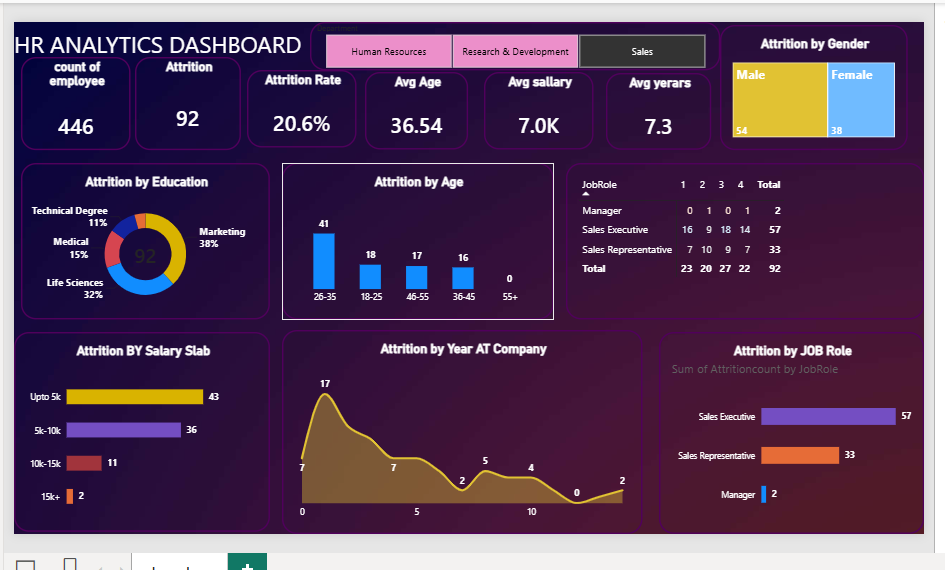

This screenshot's page, from the dashboard's own definition file:
{"tool":"powerbi","page":{"name":"hr analyas ","canvas":[1280,720],"ordinal":0},"visuals":[{"type":"cardVisual","title":"count of employee","fields":{"Data":["CountNonNull(HR_Analytics.EmpID)"]},"box":[10,48.6,154.3,131.4],"z":0},{"type":"cardVisual","title":"Attrition","fields":{"Data":["Sum(HR_Analytics.Attritioncount)"]},"box":[170,48.6,148.6,131.4],"z":1000},{"type":"cardVisual","title":"Avg Age","fields":{"Data":["Avg(HR_Analytics.Age)"]},"box":[493.9,70.6,145.4,109.4],"z":2000},{"type":"cardVisual","title":"Attrition Rate","fields":{"Data":["HR_Analytics.AttritionRATE"]},"box":[328.3,67.7,154.1,109.4],"z":3000},{"type":"cardVisual","title":"Avg yerars","fields":{"Data":["Avg(HR_Analytics.YearsAtCompany)"]},"box":[832.3,72,148.3,108],"z":4000},{"type":"cardVisual","title":"Avg sallary","fields":{"Data":["Avg(HR_Analytics.MonthlyIncome)"]},"box":[661,70.6,154.1,109.4],"z":5000},{"type":"donutChart","title":"Attrition by Education","fields":{"Category":["HR_Analytics.EducationField"],"Y":["Sum(HR_Analytics.Attritioncount)"]},"box":[10.1,198.7,349.9,220.3],"z":6000},{"type":"columnChart","title":"Attrition by Age","fields":{"Category":["HR_Analytics.AgeGroup"],"Y":["Sum(HR_Analytics.Attritioncount)"]},"box":[377.3,198.7,381.6,220.3],"z":7000},{"type":"pivotTable","fields":{"Columns":["HR_Analytics.JobSatisfaction"],"Rows":["HR_Analytics.JobRole"],"Values":["Sum(HR_Analytics.Attritioncount)"]},"box":[776.3,199,504,220.3],"z":9000},{"type":"barChart","title":"Attrition BY Salary Slab","fields":{"Category":["HR_Analytics.SalarySlab"],"Y":["Sum(HR_Analytics.Attritioncount)"]},"box":[0,436.3,360,280.8],"z":10000},{"type":"barChart","title":"Attrition by JOB Role","fields":{"Category":["HR_Analytics.JobRole"],"Y":["Sum(HR_Analytics.Attritioncount)"]},"box":[907.2,436.3,373,283.7],"z":11000},{"type":"areaChart","title":"Attrition by Year AT  Company","fields":{"Category":["HR_Analytics.YearsAtCompany"],"Y":["Sum(HR_Analytics.Attritioncount)"]},"box":[377.3,433.4,506.9,286.6],"z":12000},{"type":"treemap","title":"Attrition by Age","fields":{"Group":["HR_Analytics.Gender"],"Values":["Sum(HR_Analytics.Attritioncount)"]},"box":[993.3,4.9,263.6,175.7],"z":13000},{"type":"slicer","fields":{"Values":["HR_Analytics.Department"]},"box":[385.6,0,595.5,67.1],"z":14000},{"type":"textbox","box":[9.8,8.5,419,63.4],"z":15000}]}

Visuals, with their boxes on the page's 1280x720 design canvas (x1, y1, x2, y2). These are canvas units, not pixel positions in the 945x570 screenshot, which may show the page scaled, cropped or inside an application window:
"count of employee" cardVisual: {"left": 10, "top": 49, "right": 164, "bottom": 180}
"Attrition" cardVisual: {"left": 170, "top": 49, "right": 319, "bottom": 180}
"Avg Age" cardVisual: {"left": 494, "top": 71, "right": 639, "bottom": 180}
"Attrition Rate" cardVisual: {"left": 328, "top": 68, "right": 482, "bottom": 177}
"Avg yerars" cardVisual: {"left": 832, "top": 72, "right": 981, "bottom": 180}
"Avg sallary" cardVisual: {"left": 661, "top": 71, "right": 815, "bottom": 180}
"Attrition by Education" donutChart: {"left": 10, "top": 199, "right": 360, "bottom": 419}
"Attrition by Age" columnChart: {"left": 377, "top": 199, "right": 759, "bottom": 419}
pivotTable - HR_Analytics.JobSatisfaction x HR_Analytics.JobRole: {"left": 776, "top": 199, "right": 1280, "bottom": 419}
"Attrition BY Salary Slab" barChart: {"left": 0, "top": 436, "right": 360, "bottom": 717}
"Attrition by JOB Role" barChart: {"left": 907, "top": 436, "right": 1280, "bottom": 720}
"Attrition by Year AT  Company" areaChart: {"left": 377, "top": 433, "right": 884, "bottom": 720}
"Attrition by Age" treemap: {"left": 993, "top": 5, "right": 1257, "bottom": 181}
slicer - HR_Analytics.Department: {"left": 386, "top": 0, "right": 981, "bottom": 67}
textbox: {"left": 10, "top": 8, "right": 429, "bottom": 72}
